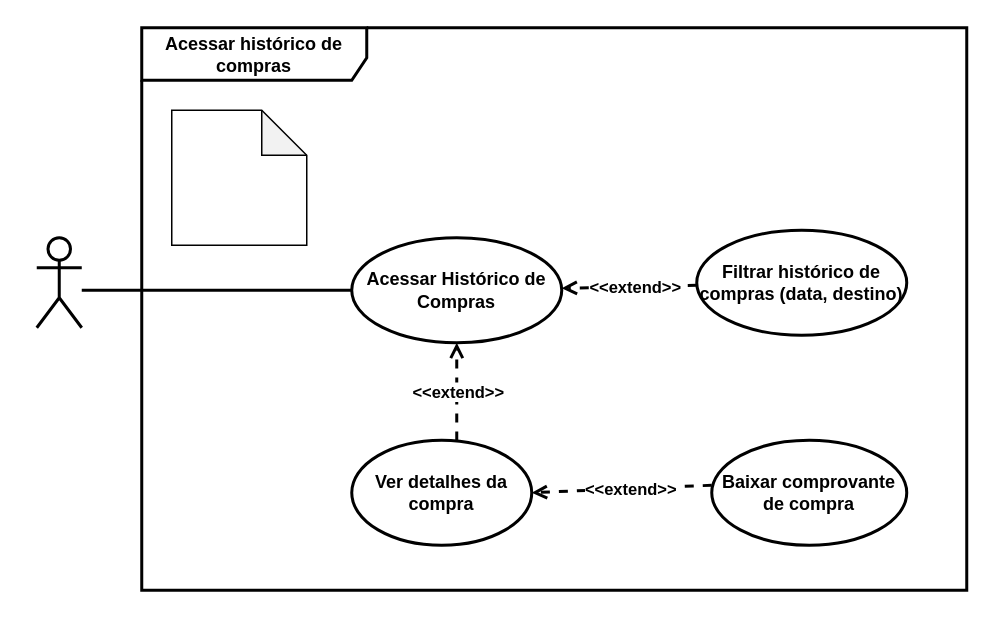
Image size: 995x617. Some labels were removed from this diagram. Each missing label, with the box of its shape:
Usuário: (34, 236, 82, 328)
Usuário deve estar logado: (170, 109, 307, 245)
